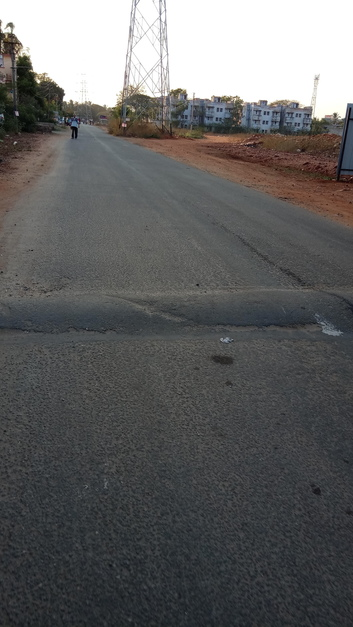bump: (1, 286, 353, 333)
